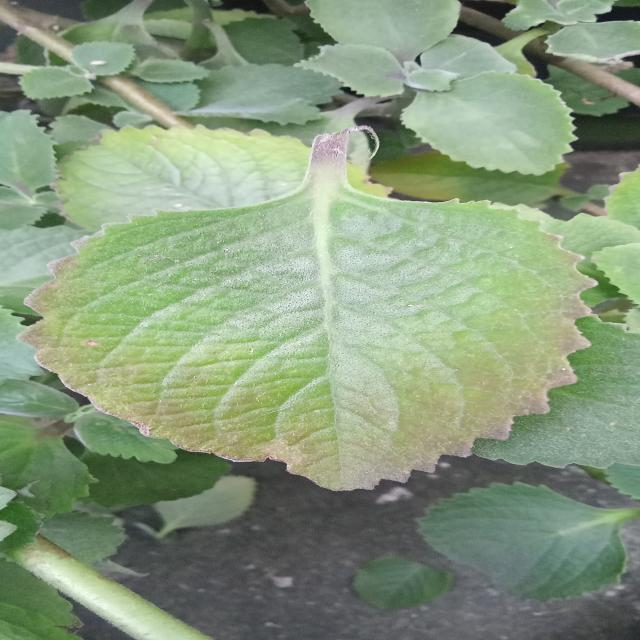Oregano: (15, 145, 629, 509)
